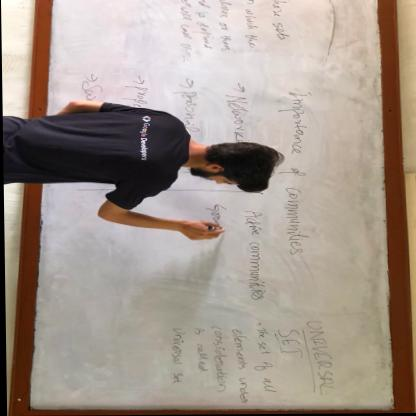Handwritten text: (278, 86, 320, 259), (235, 208, 274, 302), (305, 315, 344, 397), (216, 89, 256, 146), (228, 323, 251, 409), (251, 323, 276, 396), (161, 323, 186, 387), (174, 84, 205, 132), (210, 323, 228, 398), (189, 321, 210, 377), (269, 0, 295, 43), (240, 10, 265, 49), (278, 322, 304, 358), (216, 19, 239, 57)
Lecturer: (10, 101, 285, 218)
Whiteboard: (20, 0, 400, 414)
